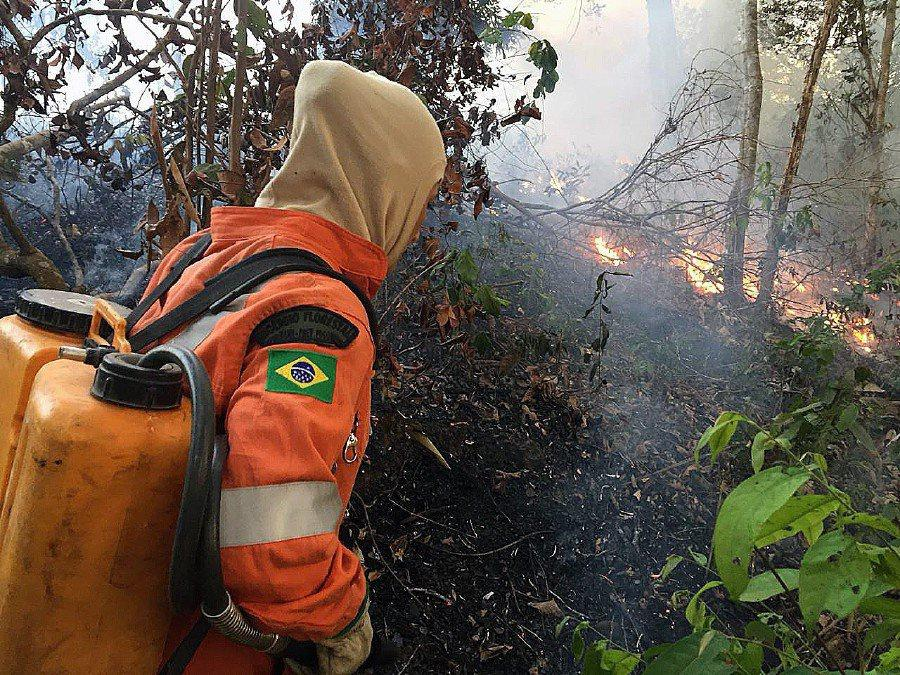victim: (125, 62, 446, 675)
